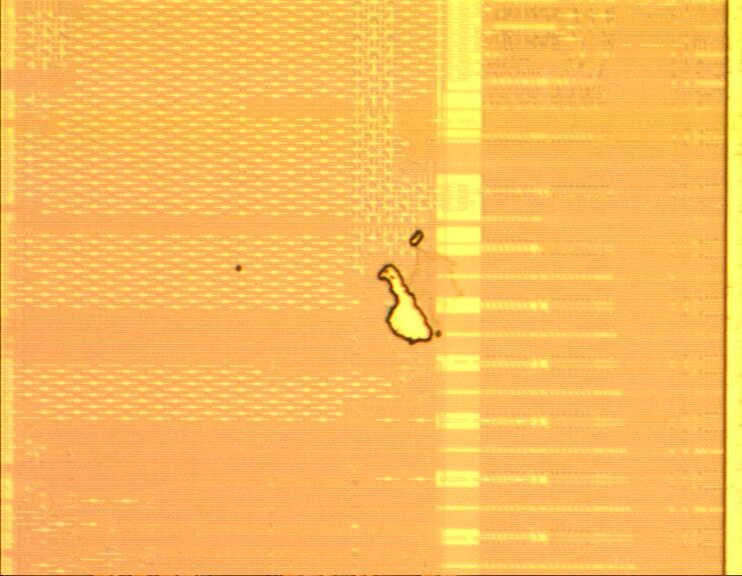BLOCK ETCH: (227, 228, 446, 354)
